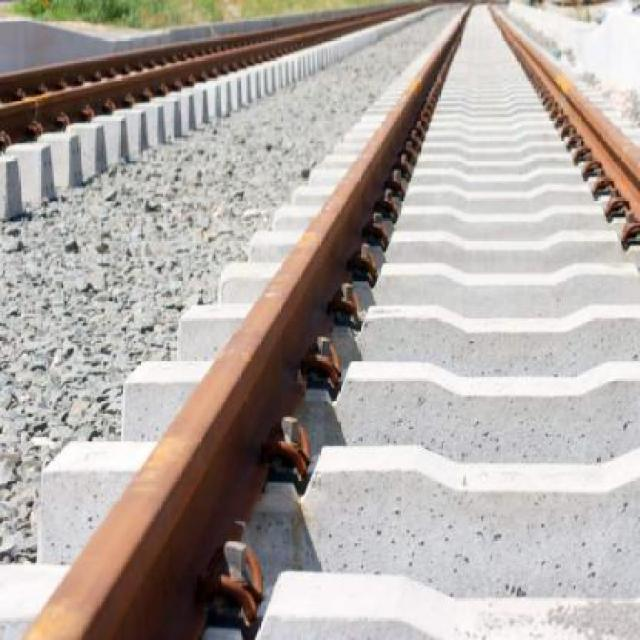defective: (4, 0, 640, 640)
